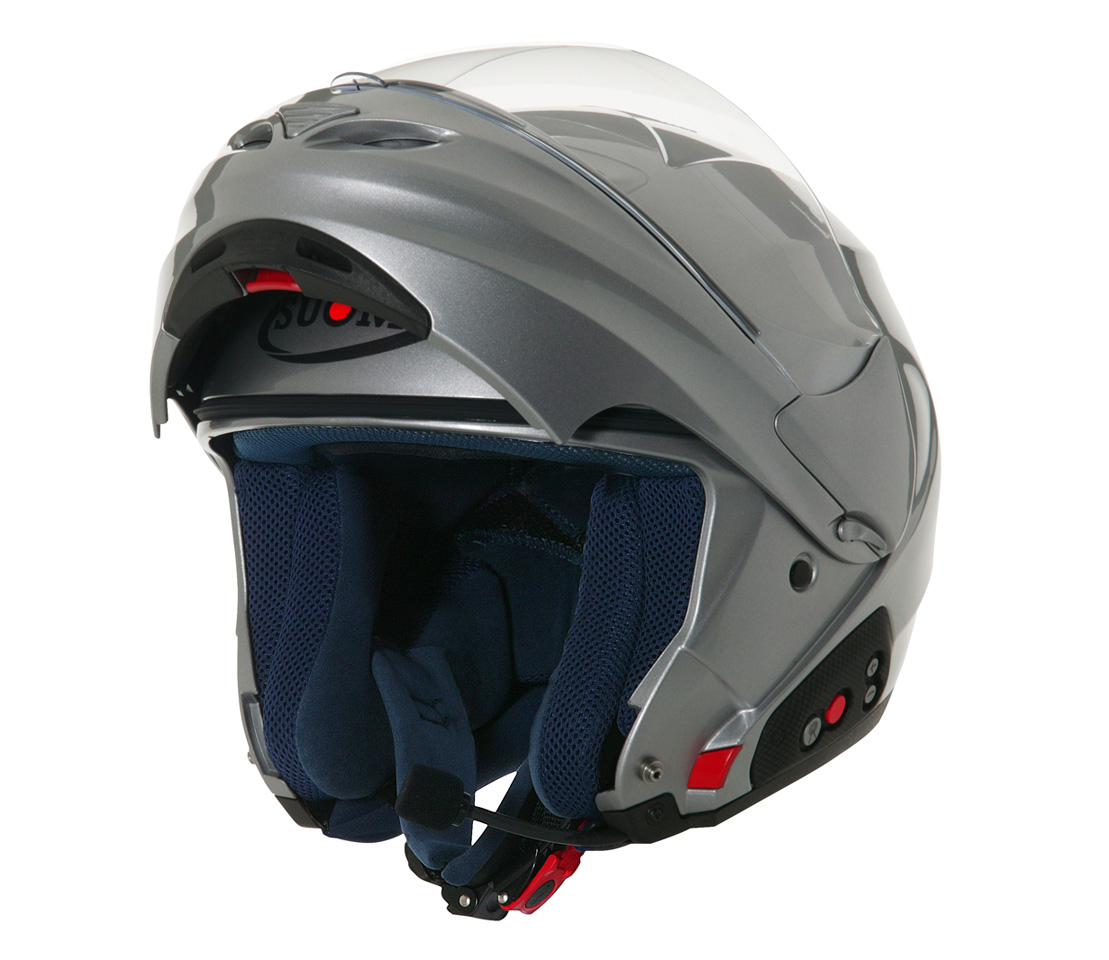helmet: (151, 81, 960, 831)
